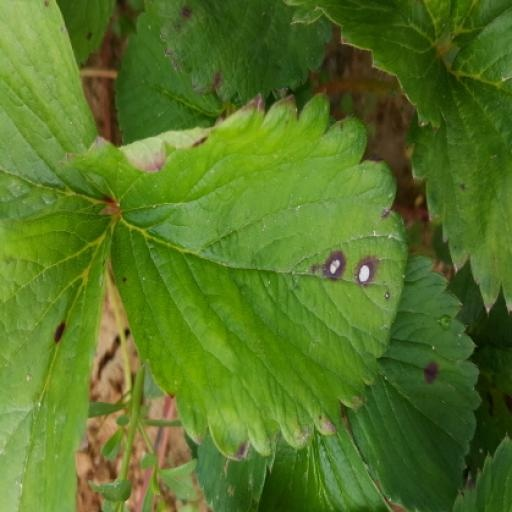Leaf Spot: (109, 89, 409, 462), (0, 191, 120, 511), (342, 255, 484, 511), (401, 5, 511, 317), (158, 0, 336, 106), (452, 433, 511, 511), (59, 0, 120, 67)
